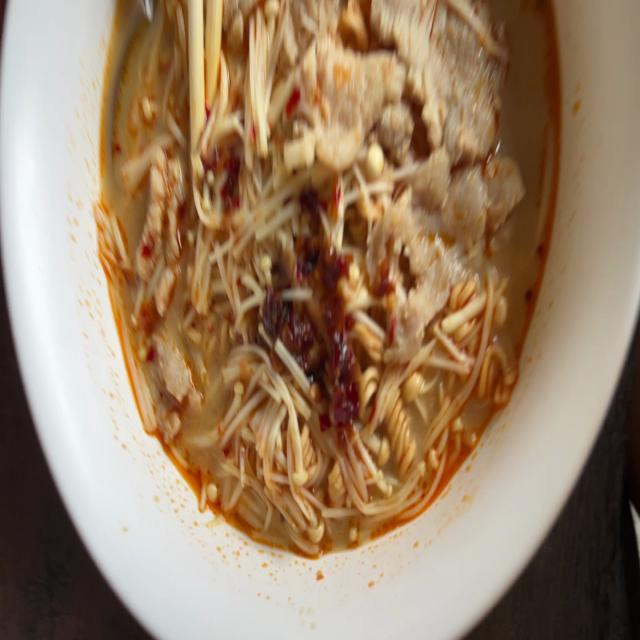noodle: (66, 0, 586, 562)
